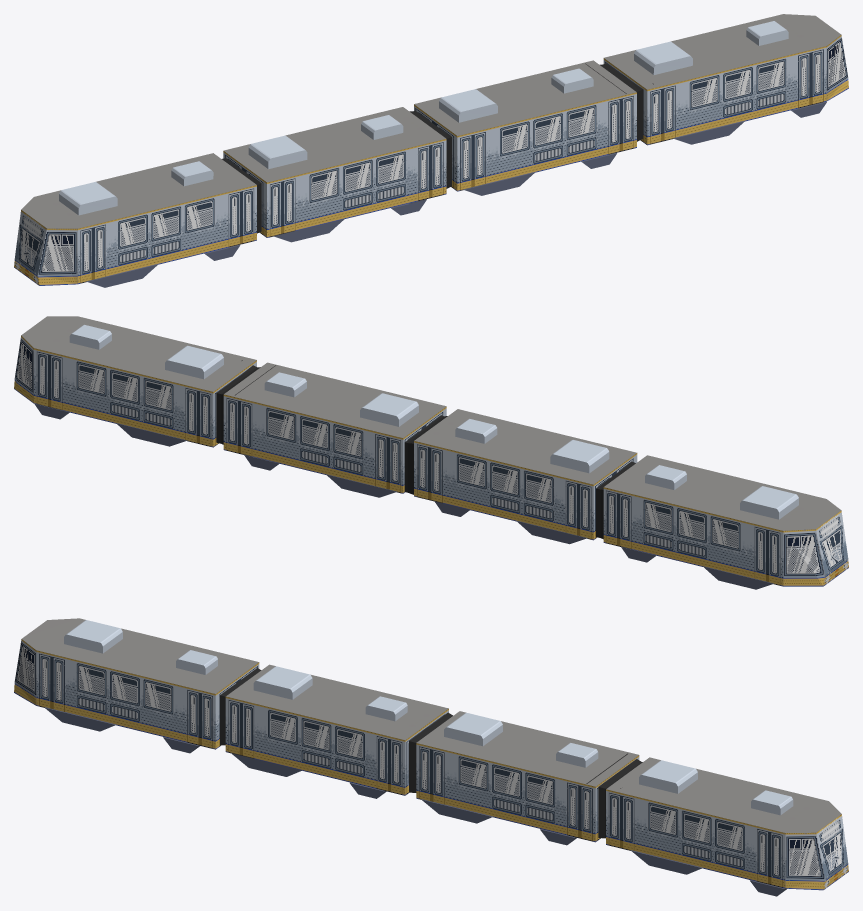
The model's file is Tren part new new.fbx.
The picture shows the model from 3 angles, top to bottom: view 1: azimuth 30°, elevation 25°; view 2: azimuth 150°, elevation 25°; view 3: azimuth 330°, elevation 25°; orthographic projection.
Visible parts, largest first — view 1: Antenna.002; view 2: Antenna.002; view 3: Antenna.002.
Part boxes in pixels (x1,y1,x2,y2): Antenna.002: [14, 14, 848, 287]; Antenna.002: [14, 316, 848, 589]; Antenna.002: [14, 618, 848, 896].
Bounding box in the file's own units: 5488 × 488 × 522.
Materials: 4 (1 with a texture image).
